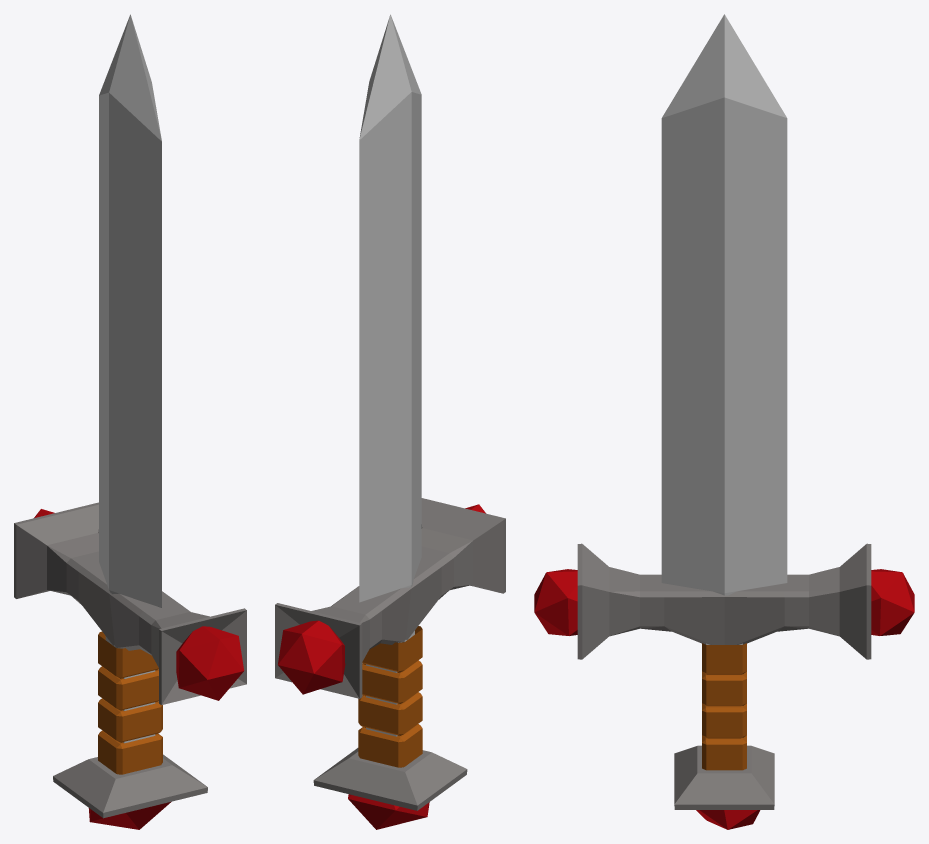
The model's file is sword.fbx.
The picture shows the model from 3 angles, left to right: view 1: azimuth 30°, elevation 25°; view 2: azimuth 150°, elevation 25°; view 3: azimuth 270°, elevation 25°; orthographic projection.
Visible parts, largest first — view 1: blade, gaurd, handle, handle tip, gemL, gemB; view 2: blade, gaurd, handle, handle tip, gemR, gemB; view 3: blade, gaurd, handle, handle tip, gemR, gemL, gemB.
Part boxes in pixels (x1,y1,x2,y2): blade: [99, 14, 161, 743]; gaurd: [14, 502, 246, 705]; handle: [98, 631, 162, 774]; handle tip: [53, 754, 207, 818]; gemL: [176, 626, 244, 700]; gemB: [88, 801, 171, 829]; blade: [359, 14, 421, 736]; gaurd: [275, 498, 505, 698]; handle: [358, 626, 422, 767]; handle tip: [313, 748, 467, 810]; gemR: [278, 620, 345, 694]; gemB: [348, 794, 429, 829]; blade: [661, 14, 787, 644]; gaurd: [577, 543, 871, 659]; handle: [702, 643, 746, 770]; handle tip: [674, 745, 774, 809]; gemR: [871, 569, 914, 635]; gemL: [534, 569, 577, 635]; gemB: [696, 810, 760, 829].
Size of the model in its own units: 216 by 68.59 by 508.
